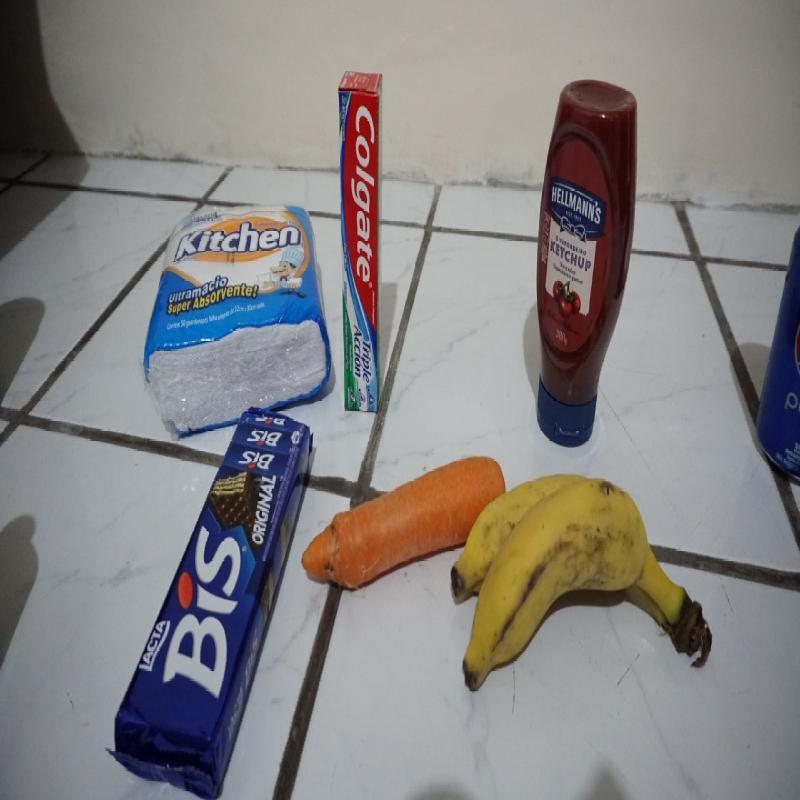Banana: (452, 475, 712, 688)
Carrot: (307, 458, 508, 591)
Ketchup: (537, 80, 638, 448)
Napkin: (142, 209, 332, 439)
Soda can: (756, 222, 800, 482)
Toothpaste: (338, 70, 382, 410)
